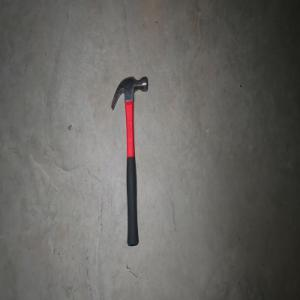Hammer: (110, 75, 148, 247)
